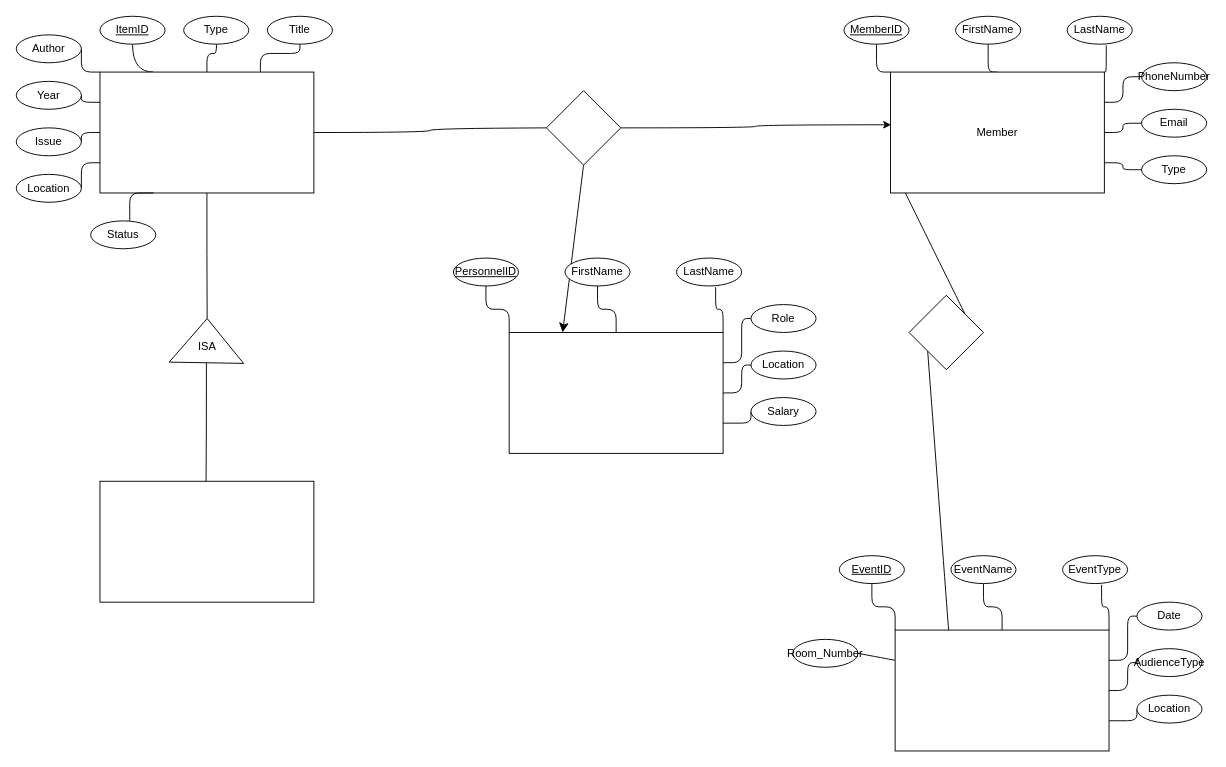
Image size: 1226x767. Some labels were removed from this diagram. The centre of each missing label's shape, as x and y in pixels:
Borrows: the point at 583,127
Event: the point at 1001,690
FutureItem: the point at 206,541
Library Item: the point at 206,132
Personnel: the point at 615,392
Register: the point at 945,332
